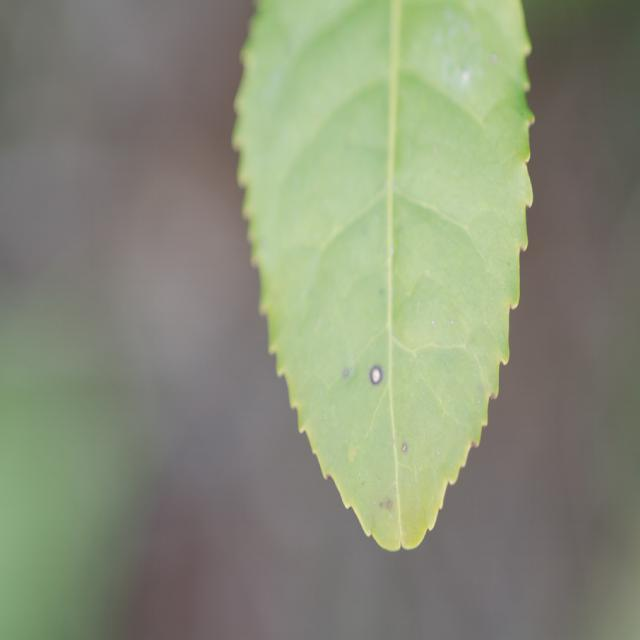Tea red scab: (365, 354, 385, 399)
